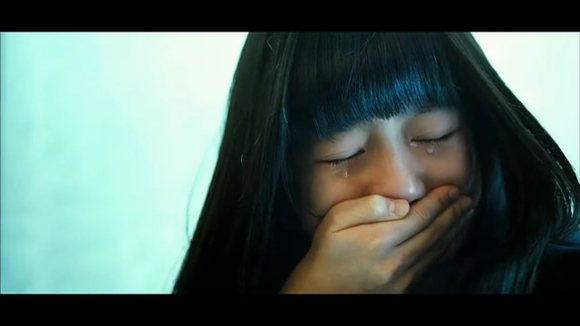face: (299, 76, 479, 278)
